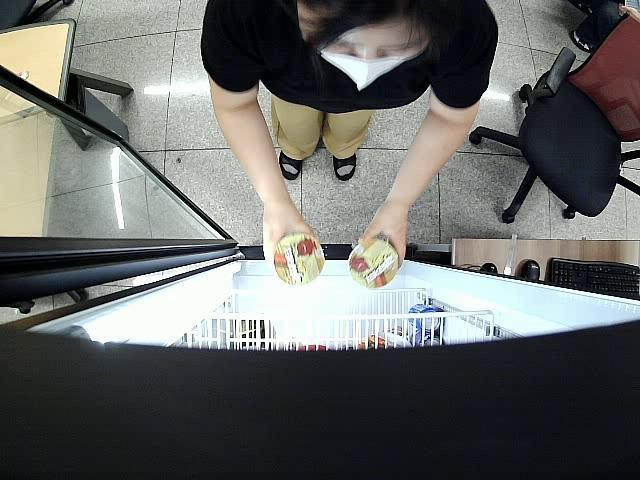04_chapagetti_S: (272, 232, 324, 286), (346, 237, 399, 288)
